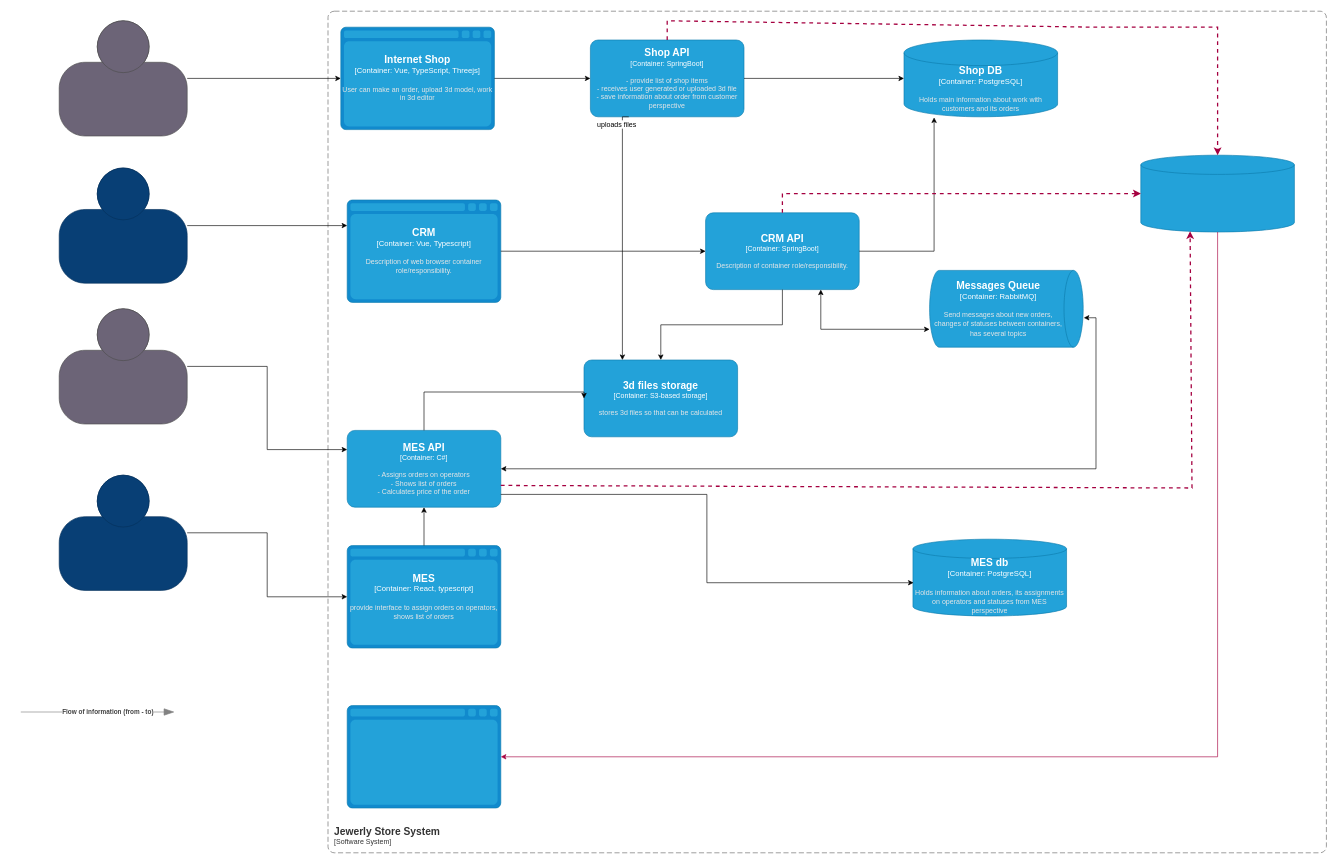
This 1338x864 diagram has some shape labels left out. The centre of each missing label's shape, as x and y in pixels:
API user [Person] Description of external person.: the point at 123,366
Customer [Person] Description of external person.: the point at 123,78
Jaeger [Container: OTel] сбор метрики от приложений системы: the point at 1217,193
Jaeger UI [Container: OTel] Отображение трассировочной информации по запросам: the point at 424,756
Operator [Person] Takes order in work, manufactures jewerly: the point at 123,532
Seller [Person] Operates with order, confirms manufacturing for the user: the point at 123,225
